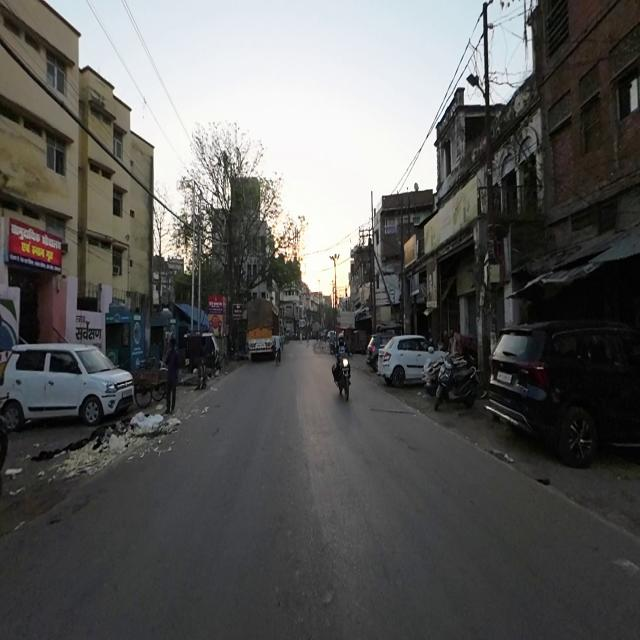Garbage: (60, 446, 100, 473), (129, 412, 166, 439), (109, 431, 130, 457)
